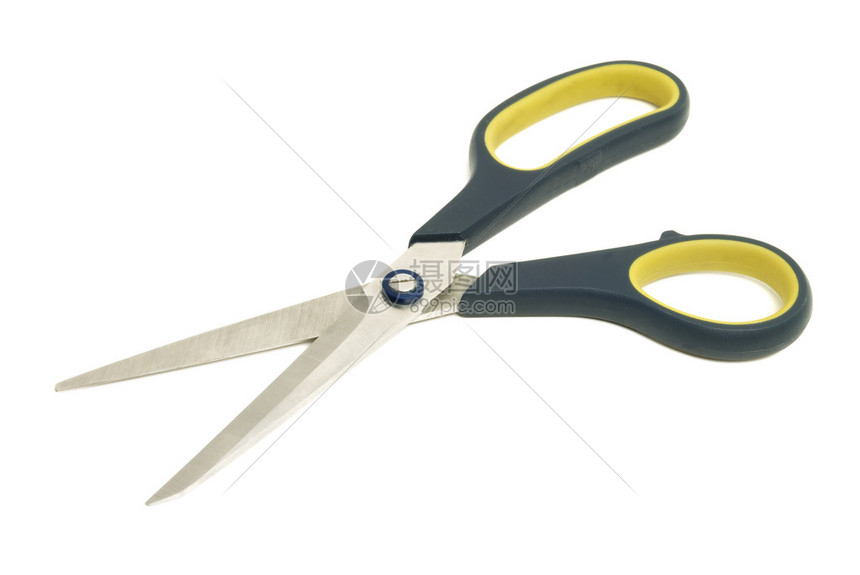scissors: (50, 57, 824, 517)
